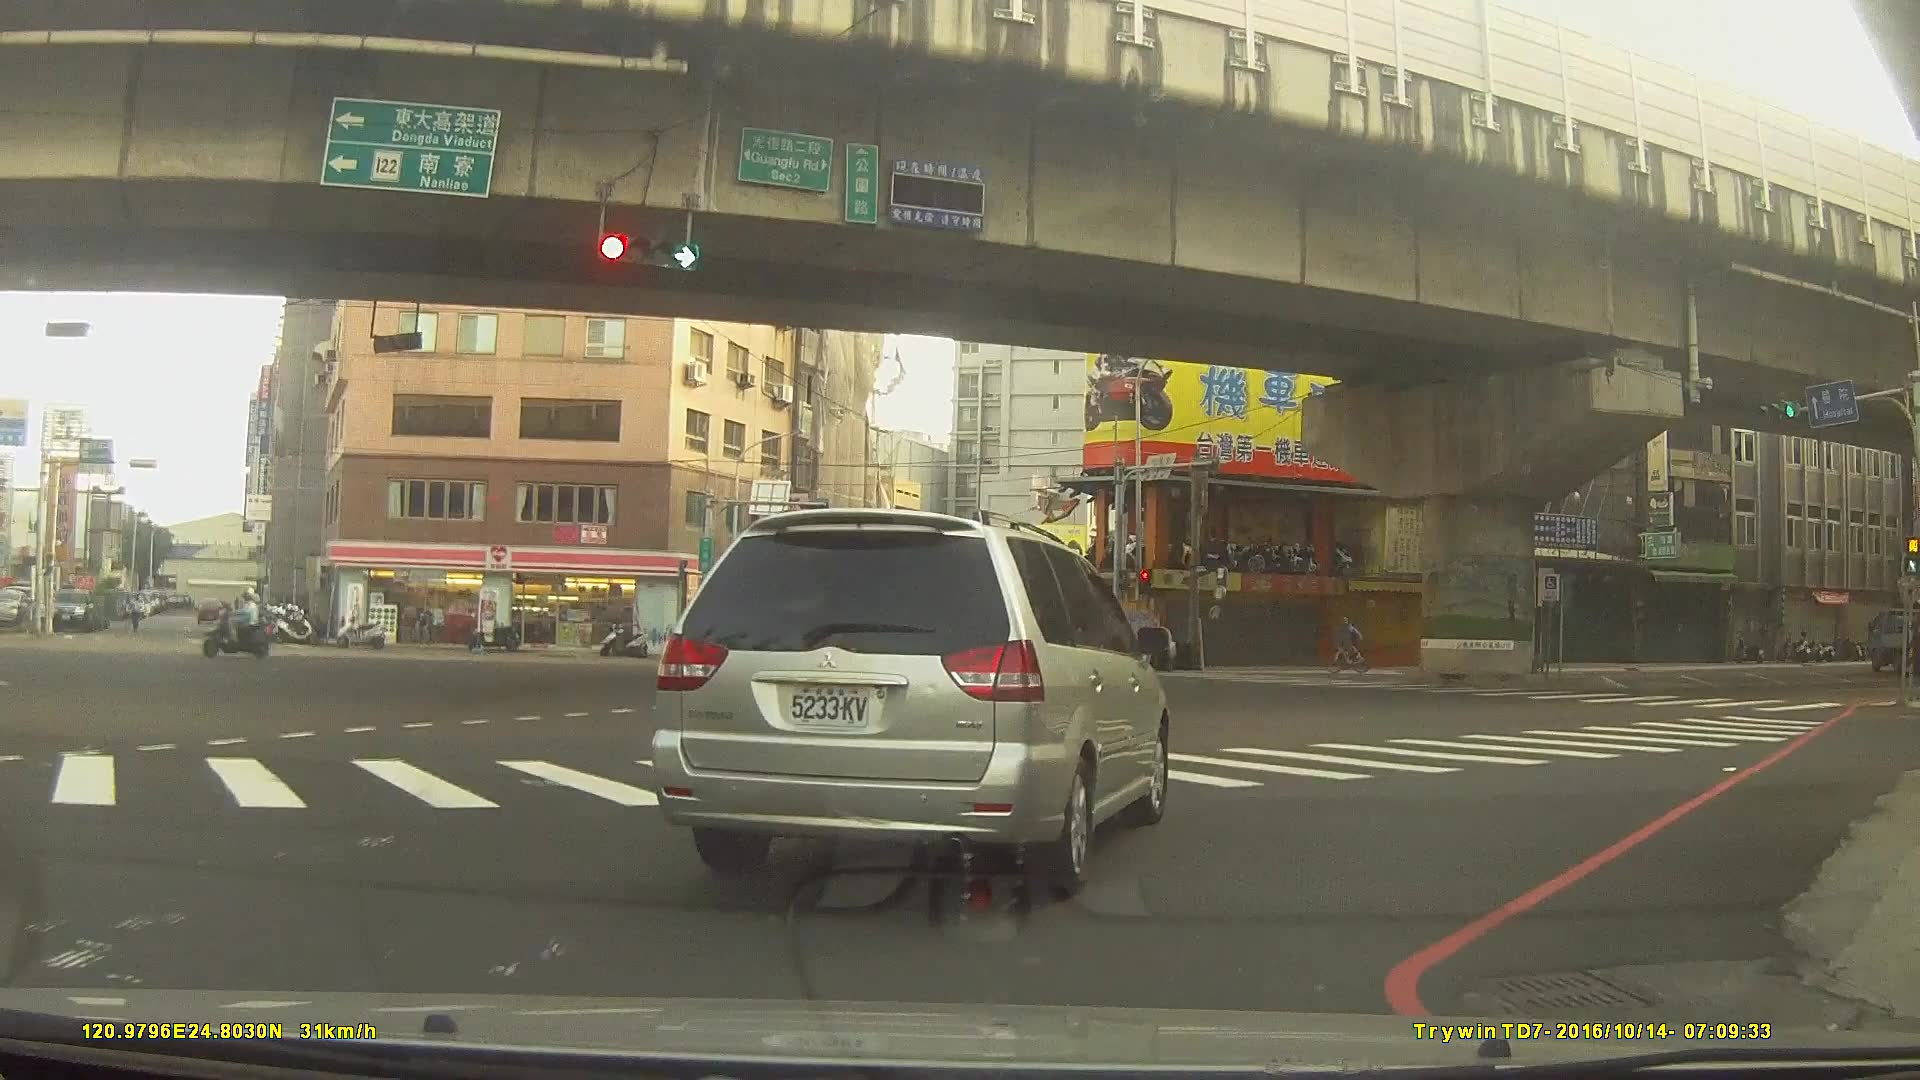rider: (202, 588, 274, 659), (1319, 616, 1373, 677)
vehicle: (652, 506, 1172, 890), (1866, 609, 1920, 673), (859, 630, 930, 670), (48, 588, 93, 633), (543, 606, 605, 633), (194, 597, 227, 623)
